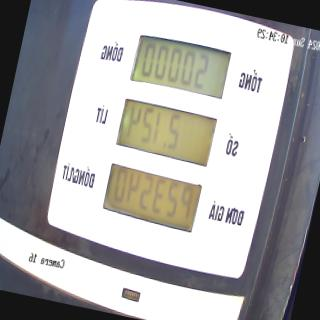screen: (97, 28, 235, 236)
